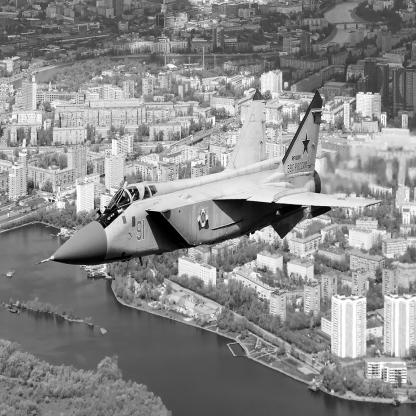Mig31: (35, 89, 384, 270)
